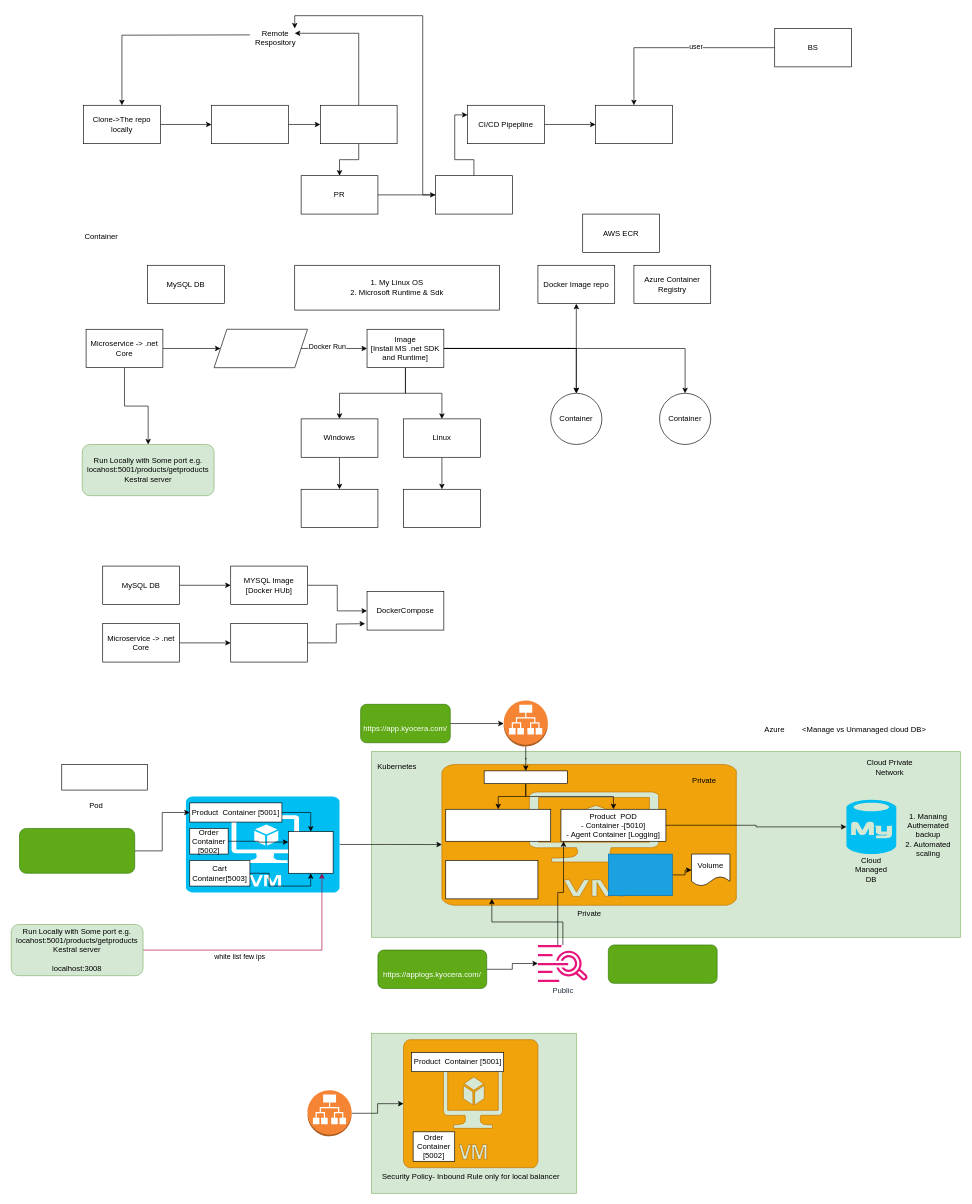
Image size: 972x1204. Some labels were removed from this diagram. The shapes that lost their labels are listed below. From the top down, each one's centre as x and y in pixels, then its label:
At (x=249, y=124): "We Make change in to the code locally".
At (x=358, y=124): "Commit".
At (x=633, y=124): "Artifacts".
At (x=473, y=194): "Push".
At (x=260, y=348): "Docker File [Set of instruction which help to make image]".
At (x=339, y=508): "Size [3-4 GB]".
At (x=441, y=508): "Size[ 300MB]".
At (x=269, y=642): "Docker HUB".
At (x=104, y=777): "Product Service - .Net Core".
At (x=525, y=777): "Product Service".
At (x=498, y=825): "Product POD - Container -[5001] - Agent Container [Logging]".
At (x=77, y=850): "Client https://localhost;5001 https://app.kyocera.com//products".
At (x=310, y=852): "DB MySQL Container [3006]".
At (x=491, y=879): "Order POD - Container [5002] Agent Container [Logging]".
At (x=640, y=874): "DB MySQL POD Container [3006]".
At (x=662, y=963): "Prometheus Grafana Jaeger Kiali".
